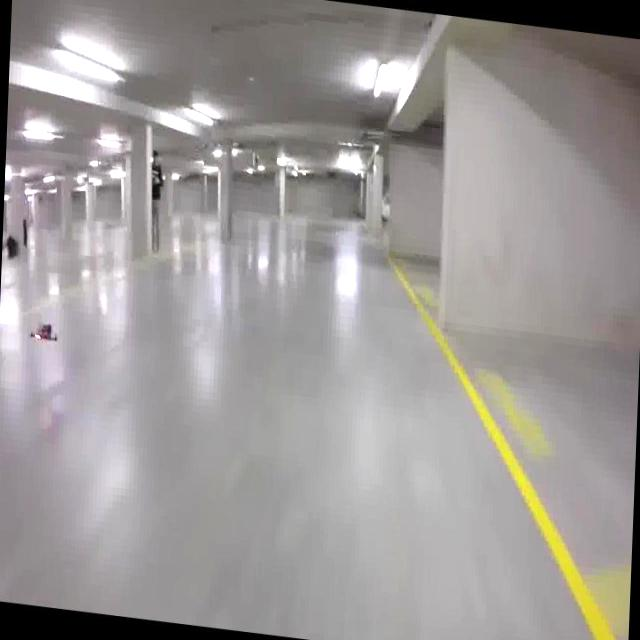drone: (26, 311, 64, 352)
